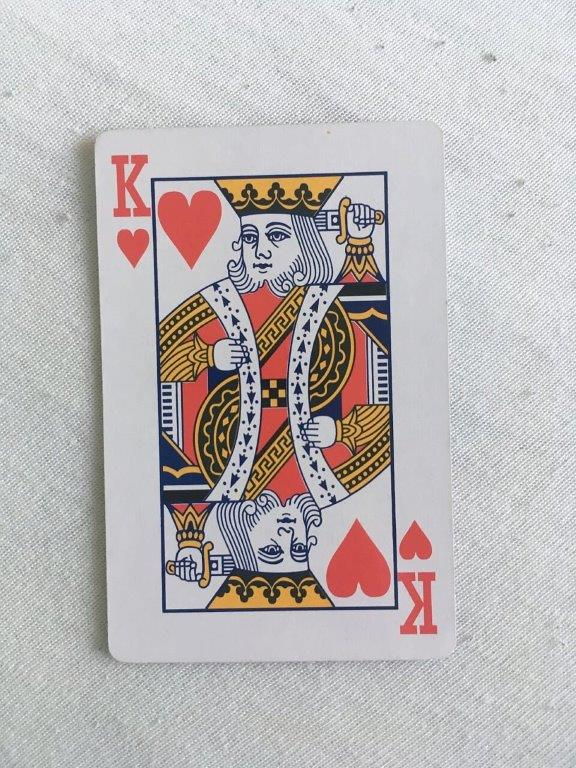KH: (91, 119, 459, 666)
